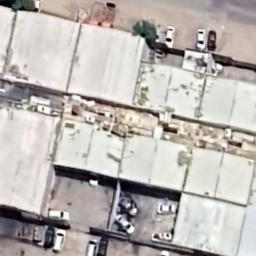sedan: (116, 214, 135, 234), (164, 26, 176, 48), (158, 204, 176, 214), (197, 29, 205, 50), (208, 30, 216, 50)
van: (53, 230, 66, 252), (86, 238, 98, 256), (49, 210, 70, 220)
